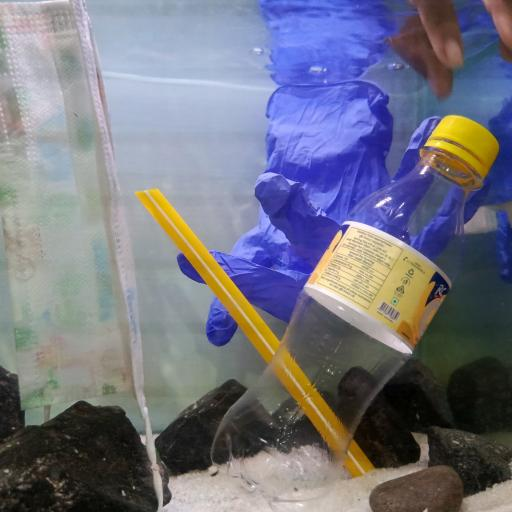bottle_cap: (434, 110, 499, 167)
glove: (179, 81, 502, 351)
mask: (6, 0, 150, 430)
plastic_bottle: (212, 114, 499, 504)
plastic_straw: (138, 185, 374, 478)
